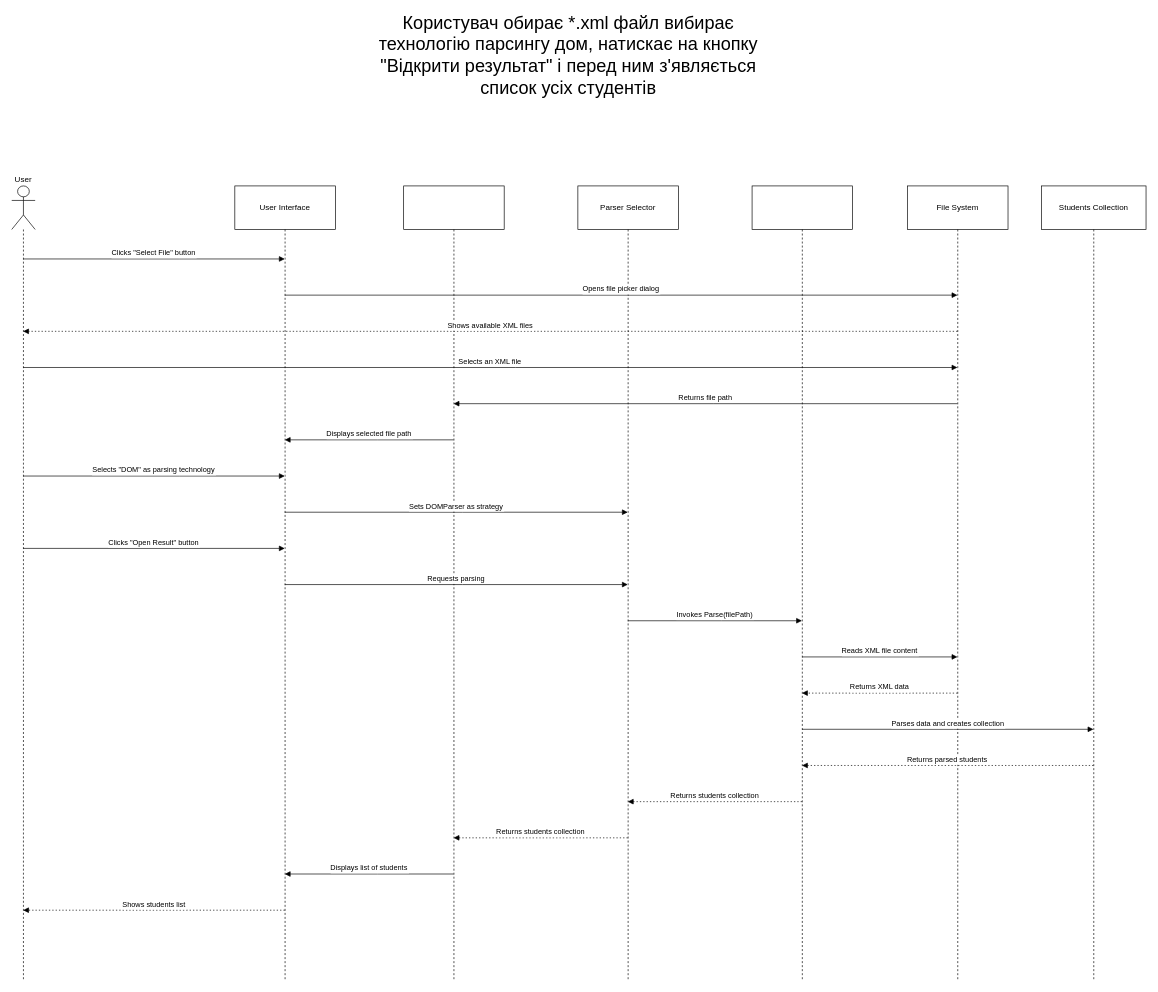
This 1158x992 diagram has some shape labels left out. The box of each missing label's shape, as (x1, y1, x2, y2) in pixels:
DOM Parser: (751, 185, 853, 981)
Main Page: (403, 185, 504, 981)
